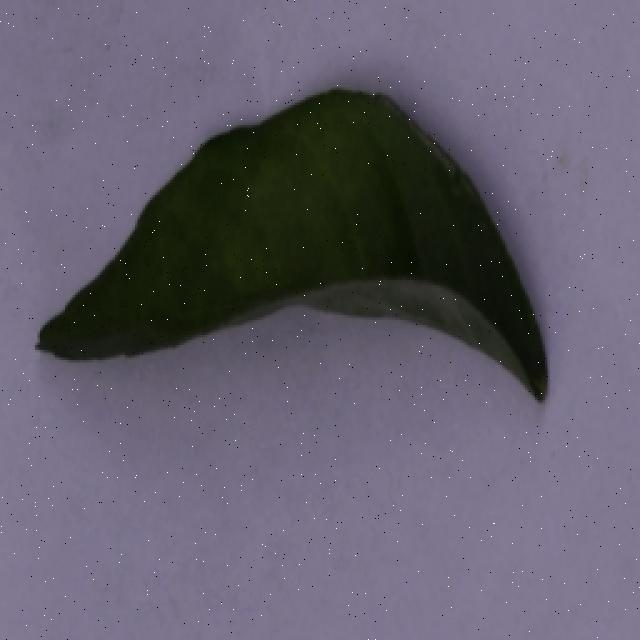greening: (27, 71, 554, 437)
